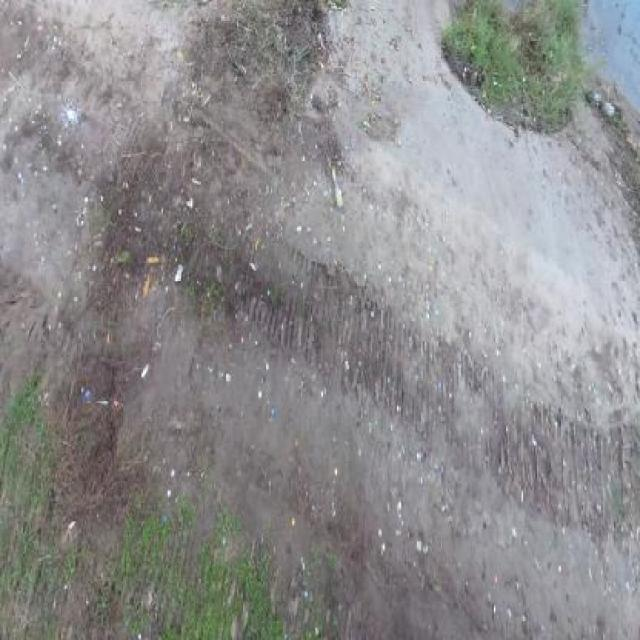Garbage: (332, 167, 345, 213)
